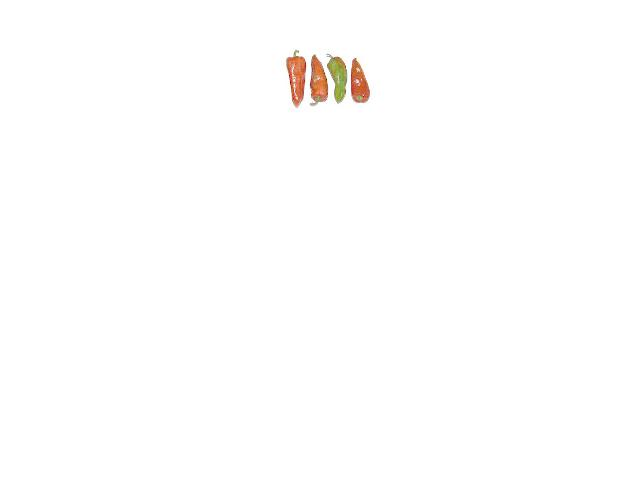bell_pepper: (349, 53, 375, 104)
